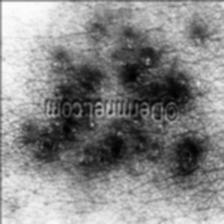Toxin: (44, 120, 68, 156), (118, 51, 142, 81), (180, 145, 196, 164)
